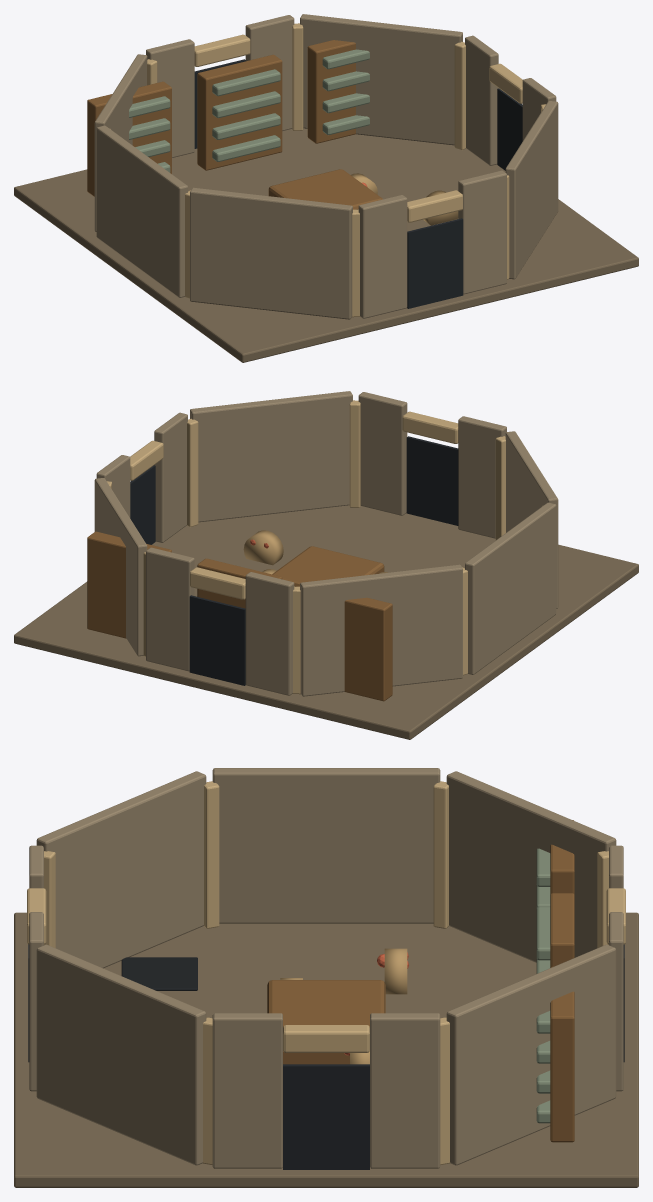
File: general_store_4172.glb
3 renders of one model, top to bottom at view 1: azimuth 30°, elevation 25°; view 2: azimuth 150°, elevation 25°; view 3: azimuth 270°, elevation 25°, orthographic. The views are drawn at different scales.
Visible parts, largest first — view 1: Room floor, SW solid wall, NE solid wall, W solid wall, SE solid wall, S doorway right, Goods shelving.001, S doorway left, S passage shadow, E doorway left, N doorway left, Goods shelving.002 (+23 smaller); view 2: Room floor, SE solid wall, NW solid wall, W solid wall, N doorway left, S doorway left, N doorway right, Goods shelving, S doorway right, N passage shadow, S passage shadow, Goods shelving.002 (+16 smaller); view 3: Room floor, W solid wall, SE solid wall, SW solid wall, NE solid wall, NW solid wall, E doorway left, E doorway right, E passage shadow, Central gear table, Goods shelving.002, E doorway lintel (+17 smaller).
Part boxes in pixels (left/top/right/bottom): Room floor: left=14, top=128, right=638, bottom=362; SW solid wall: left=190, top=187, right=352, bottom=319; NE solid wall: left=300, top=14, right=462, bottom=145; W solid wall: left=96, top=125, right=187, bottom=297; SE solid wall: left=505, top=101, right=558, bottom=279; S doorway right: left=358, top=195, right=407, bottom=318; Goods shelving.001: left=197, top=54, right=282, bottom=170; S doorway left: left=458, top=170, right=506, bottom=294; S passage shadow: left=407, top=218, right=463, bottom=308; E doorway left: left=465, top=35, right=498, bottom=165; N doorway left: left=146, top=39, right=194, bottom=157; Goods shelving.002: left=307, top=40, right=355, bottom=143; Room floor: left=14, top=505, right=638, bottom=739; SE solid wall: left=190, top=391, right=352, bottom=522; NW solid wall: left=300, top=564, right=462, bottom=696; W solid wall: left=465, top=502, right=556, bottom=674; N doorway left: left=245, top=572, right=294, bottom=695; S doorway left: left=358, top=392, right=407, bottom=515; N doorway right: left=146, top=547, right=194, bottom=671; Goods shelving: left=344, top=597, right=392, bottom=701; S doorway right: left=458, top=416, right=506, bottom=538; N passage shadow: left=189, top=595, right=245, bottom=685; S passage shadow: left=406, top=436, right=458, bottom=525; Goods shelving.002: left=87, top=531, right=171, bottom=638; Room floor: left=14, top=912, right=638, bottom=1187; W solid wall: left=212, top=768, right=440, bottom=923; SE solid wall: left=36, top=944, right=206, bottom=1165; SW solid wall: left=36, top=771, right=206, bottom=968; NE solid wall: left=446, top=944, right=616, bottom=1165; NW solid wall: left=446, top=771, right=616, bottom=962; E doorway left: left=370, top=1013, right=440, bottom=1168; E doorway right: left=212, top=1013, right=282, bottom=1168; E passage shadow: left=283, top=1064, right=369, bottom=1169; Central gear table: left=267, top=980, right=385, bottom=1064; Goods shelving.002: left=550, top=966, right=574, bottom=1142; E doorway lintel: left=283, top=1025, right=369, bottom=1052.
Bounding box in the file's own units: 18 × 5.2 × 18.
